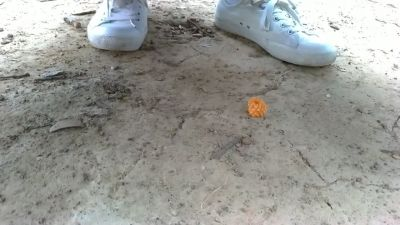eggs: (246, 97, 269, 119)
